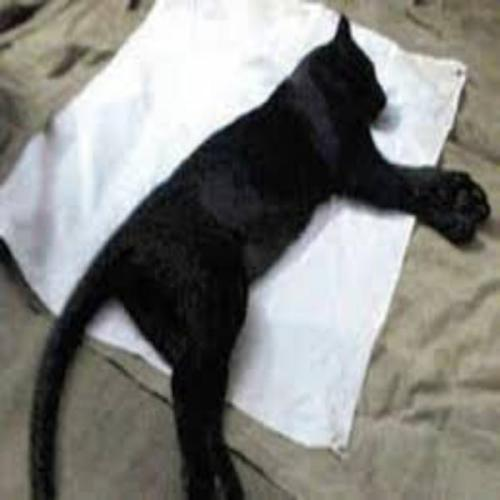panther-endangered: (29, 29, 487, 496)
